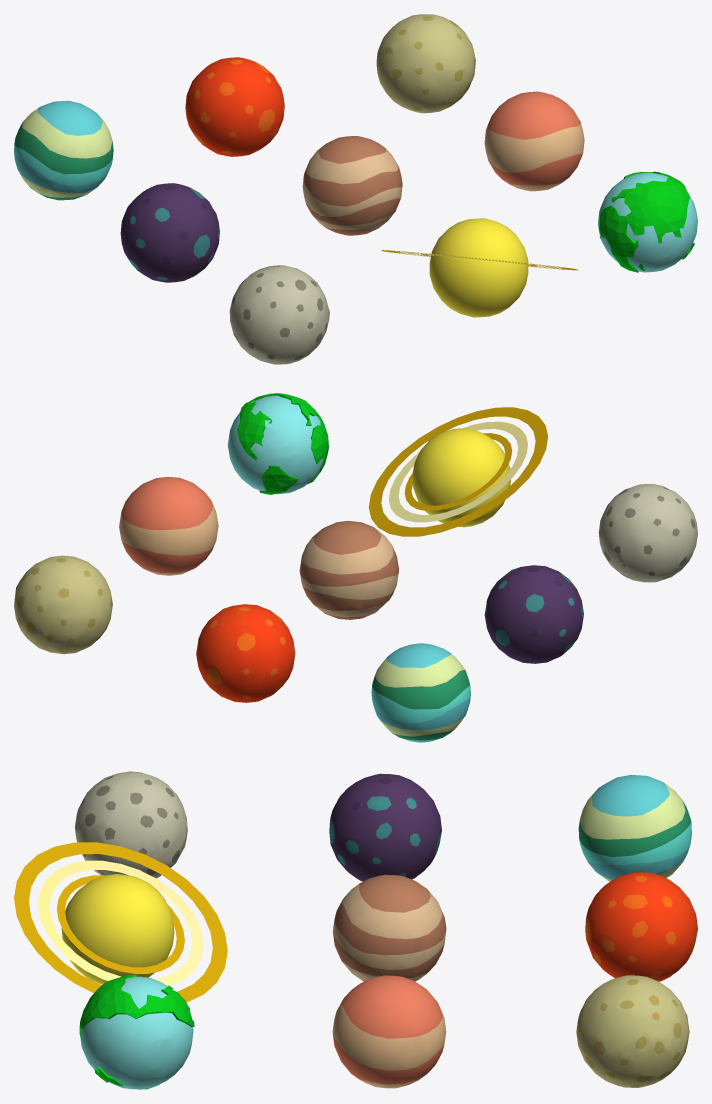
Rendered from Solar_system_planets.obj.
3 views of the same model, one above another, from view 1: azimuth 30°, elevation 25°; view 2: azimuth 150°, elevation 25°; view 3: azimuth 270°, elevation 25° (orthographic). The views are drawn at different scales.
Parts seen in each view (by area): view 1: Saturn, Earth, Jupiter, Venus, Uranus, Mars, Neptune, Pluto, Mercury; view 2: Saturn, Earth, Uranus, Venus, Jupiter, Mars, Pluto, Neptune, Mercury; view 3: Saturn, Earth, Venus, Mercury, Mars, Jupiter, Neptune, Uranus, Pluto.
Boxes of the visible parts, bbox=[...] form: Saturn: bbox=[381, 218, 578, 317]; Earth: bbox=[598, 171, 697, 272]; Jupiter: bbox=[302, 136, 402, 235]; Venus: bbox=[484, 91, 584, 191]; Uranus: bbox=[14, 100, 113, 200]; Mars: bbox=[185, 57, 284, 156]; Neptune: bbox=[120, 183, 219, 282]; Pluto: bbox=[229, 265, 329, 364]; Mercury: bbox=[376, 14, 475, 113]; Saturn: bbox=[368, 407, 547, 536]; Earth: bbox=[227, 393, 328, 494]; Uranus: bbox=[371, 643, 470, 742]; Venus: bbox=[119, 477, 218, 575]; Jupiter: bbox=[299, 520, 398, 619]; Mars: bbox=[196, 604, 295, 702]; Pluto: bbox=[598, 484, 697, 582]; Neptune: bbox=[484, 565, 583, 663]; Mercury: bbox=[14, 555, 112, 654]; Saturn: bbox=[14, 842, 227, 1002]; Earth: bbox=[79, 975, 194, 1089]; Venus: bbox=[332, 975, 446, 1088]; Mercury: bbox=[576, 975, 689, 1087]; Mars: bbox=[585, 872, 697, 981]; Jupiter: bbox=[332, 874, 446, 981]; Neptune: bbox=[329, 773, 441, 881]; Uranus: bbox=[578, 774, 691, 881]; Pluto: bbox=[74, 771, 187, 878].
Size of the model in its own units: 89.27 by 17.88 by 102.
